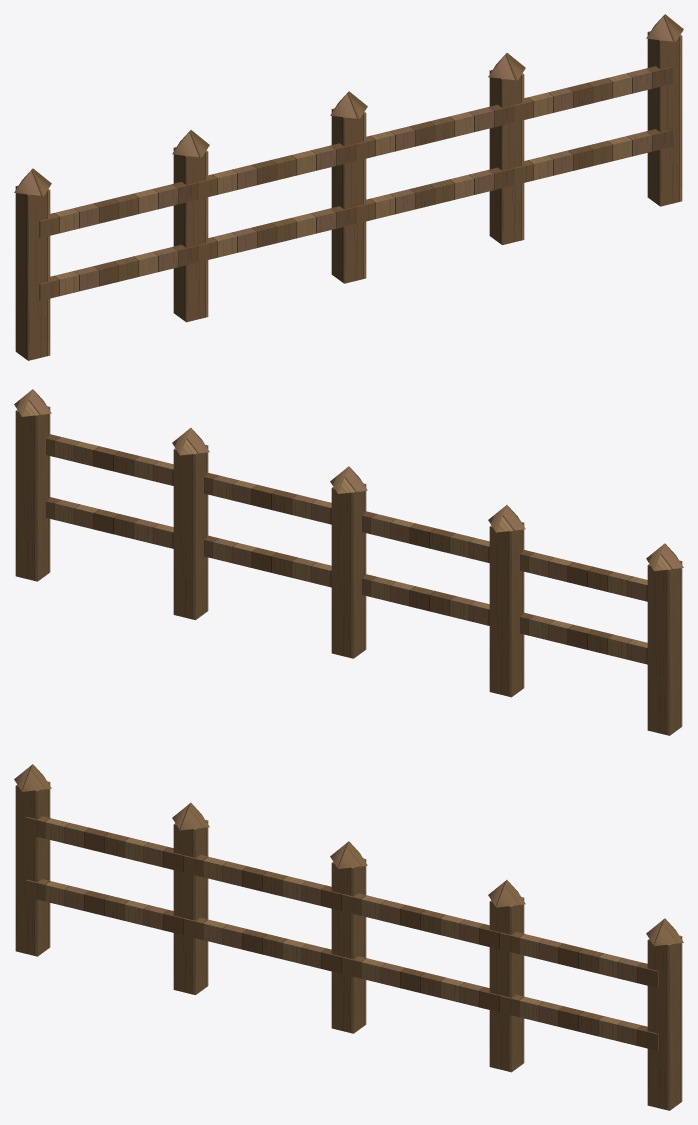
The model's file is fence.glb.
3 renders of one model, top to bottom at view 1: azimuth 30°, elevation 25°; view 2: azimuth 150°, elevation 25°; view 3: azimuth 330°, elevation 25°, orthographic.
Visible parts, largest first — view 1: fence; view 2: fence; view 3: fence.
Boxes of the visible parts, left/top/right/bottom form: fence: left=14, top=14, right=683, bottom=360; fence: left=14, top=389, right=683, bottom=735; fence: left=14, top=764, right=683, bottom=1110.
Size of the model in its own units: 4.24 by 1.12 by 0.24.
1 material, 1 textured.
